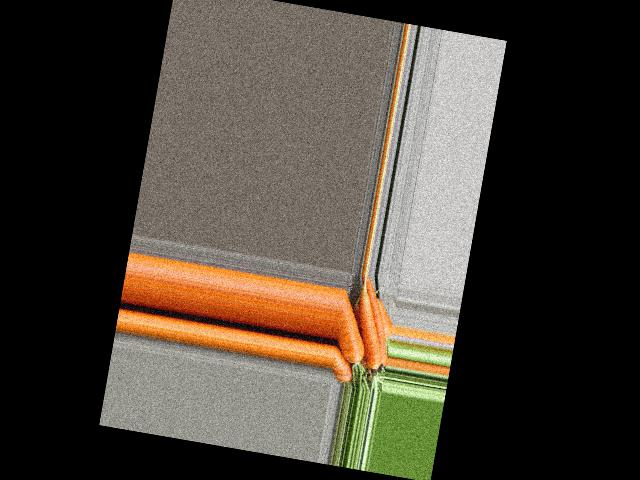carrot: (332, 338, 358, 369)
